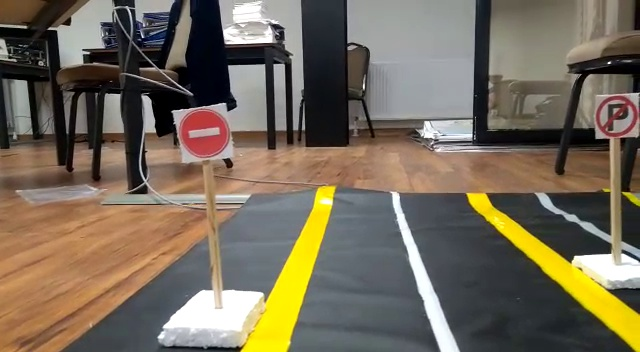girisi_olmayan_yol: (176, 104, 234, 158)
park_yapilmaz: (590, 90, 640, 140)
